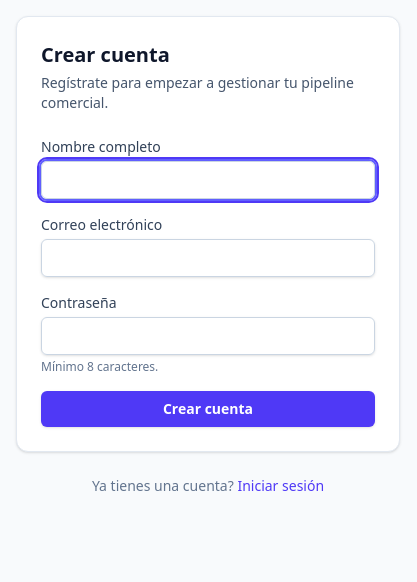
Test: Página /register — wiring real por defecto (F05-T01) › muestra un error genérico si falla la conexión
Type "Ana García" into the field labelled "Nombre completo" at (208, 180), box [41,161,375,199]
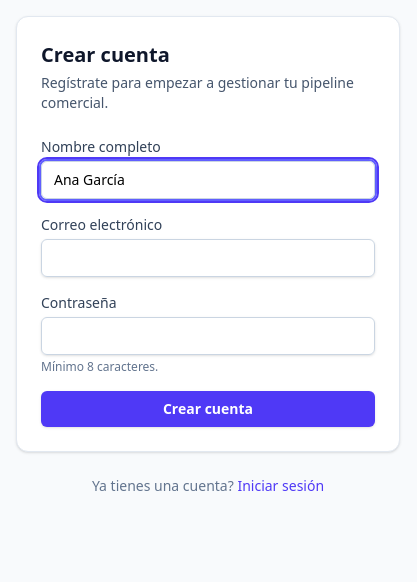
Type "ana@example.com" into the field labelled "Correo electrónico" at (208, 258), box [41,239,375,277]
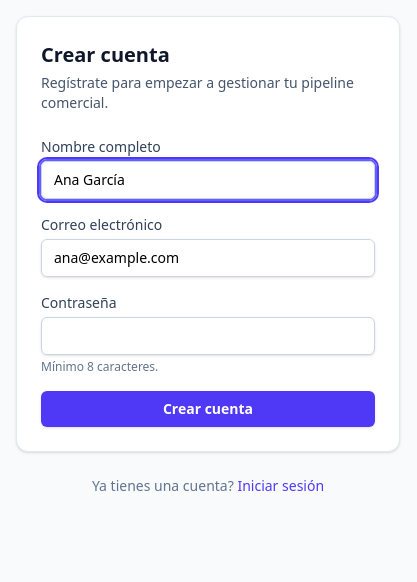
Type "valida1234" into the password field labelled "Contraseña" at (208, 336), box [41,317,375,355]
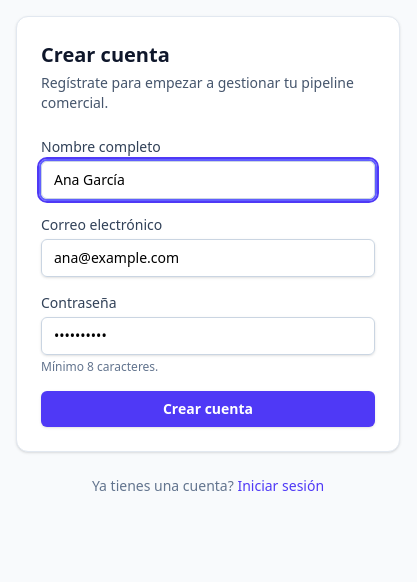
Click the button "Crear cuenta" at (208, 409), box [41,391,375,427]
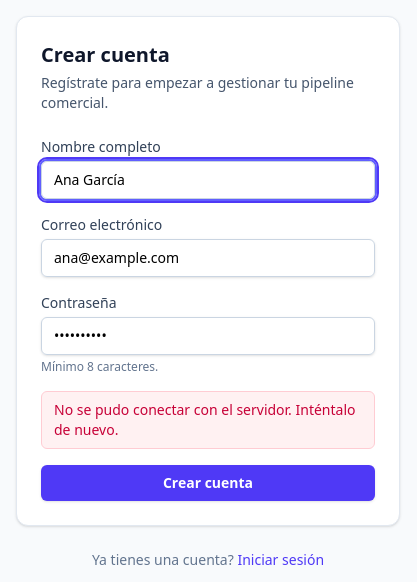
Expected: the text "No se pudo conectar con el servidor. Inténtalo de nuevo." is shown, [41,391,375,449]
